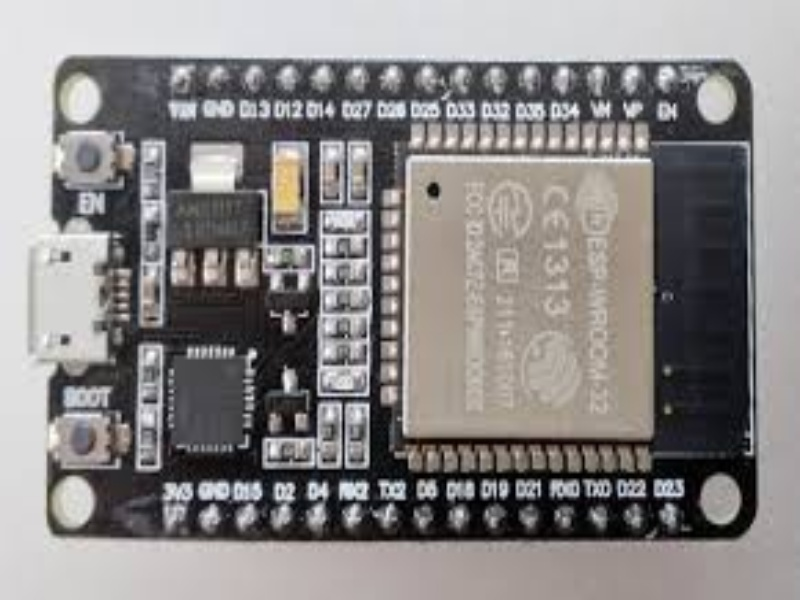esp32: (39, 55, 772, 548)
